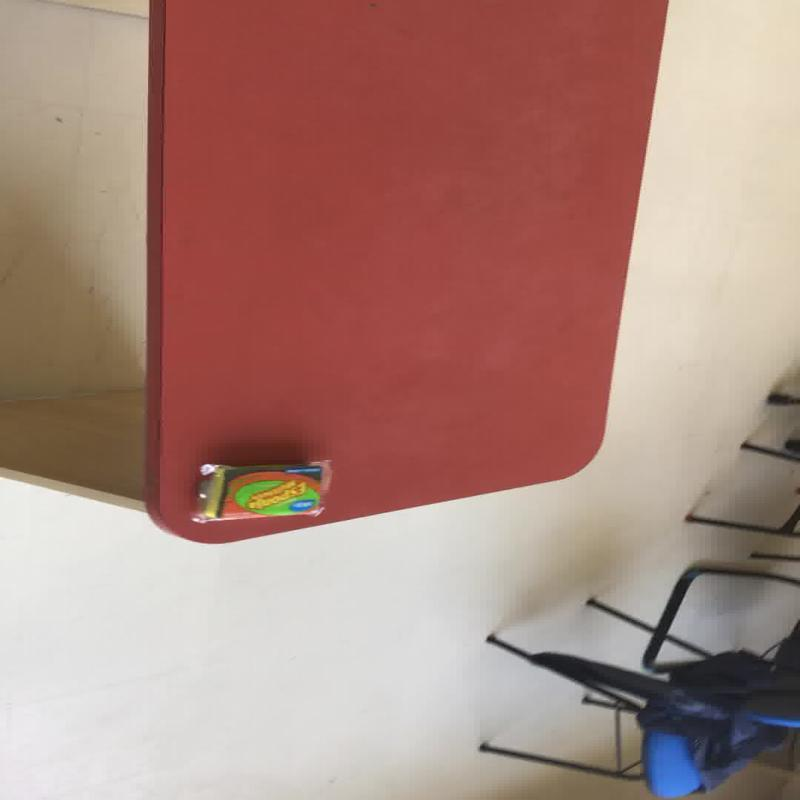sponge: (194, 460, 330, 520)
